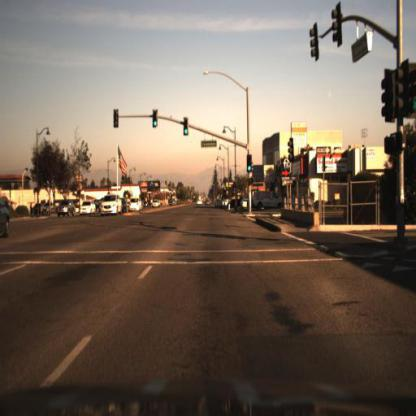car: (97, 188, 124, 224), (101, 191, 125, 222), (252, 190, 283, 212), (58, 196, 75, 221), (77, 200, 98, 218), (239, 192, 252, 216), (128, 196, 143, 214), (80, 201, 96, 217), (128, 197, 144, 212)
trafficLight: (113, 105, 121, 128)
trafficLight-Green: (150, 108, 158, 129), (247, 154, 255, 173), (183, 122, 191, 138), (183, 116, 190, 134), (152, 119, 160, 131), (246, 161, 252, 174)
